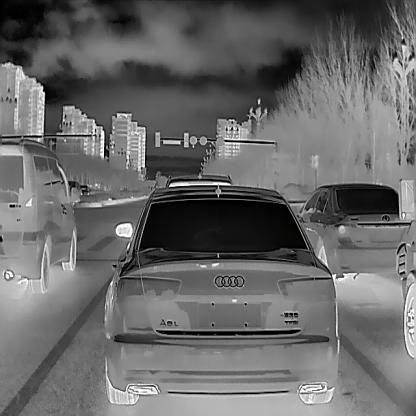car: (103, 181, 341, 404), (0, 136, 82, 293), (290, 180, 410, 283), (79, 182, 90, 193)
